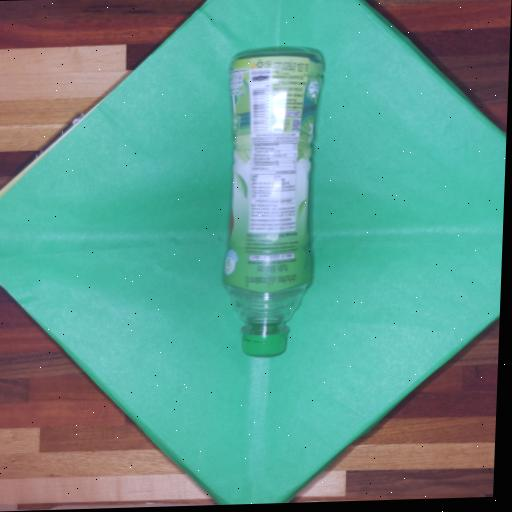bottle: (224, 51, 322, 356)
